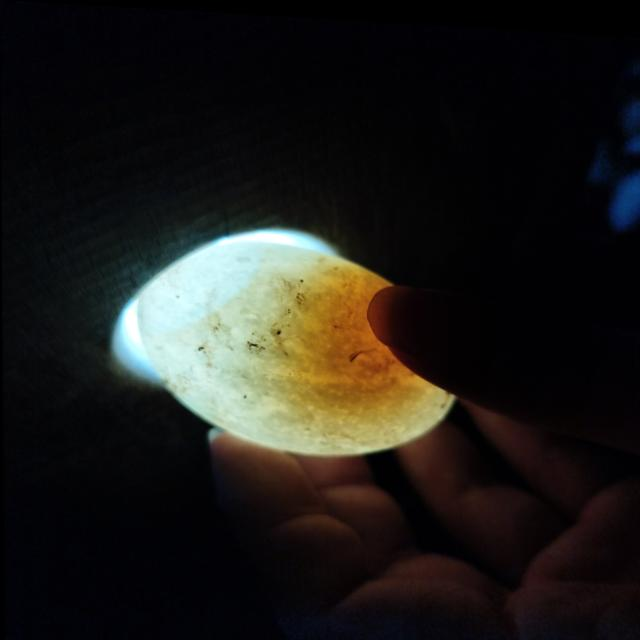Camara de Ar: (137, 236, 270, 332)
Gema Quebrada: (297, 263, 414, 414)
